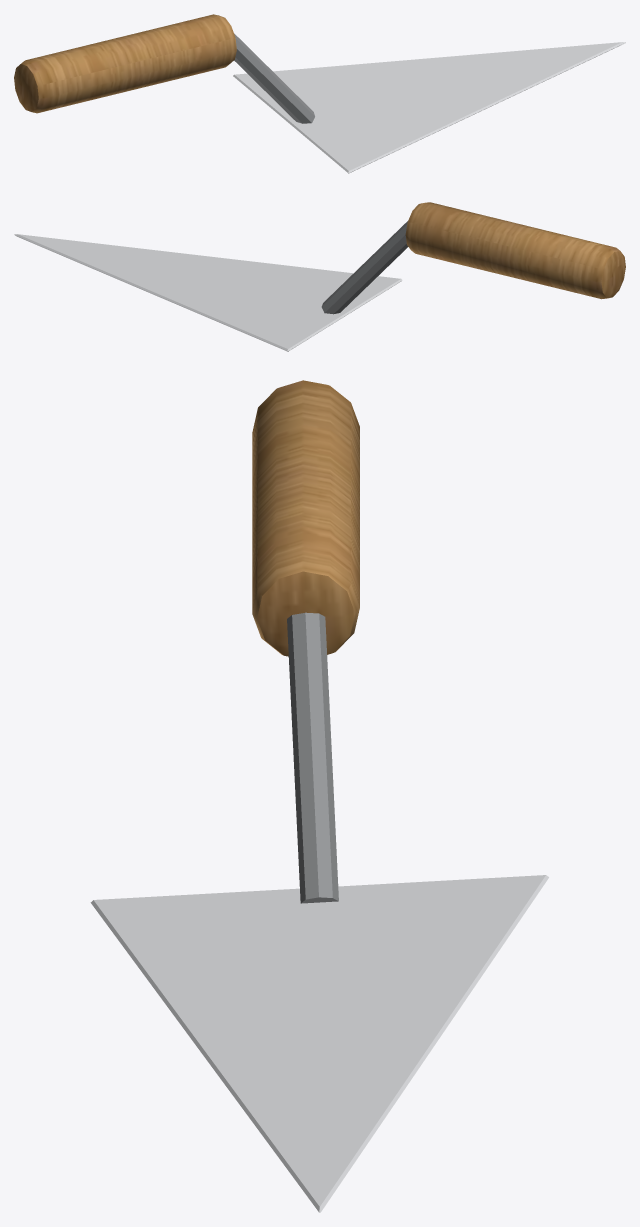
File: EQP-MAO-006_anim.glb
3 renders of one model, top to bottom at view 1: azimuth 30°, elevation 25°; view 2: azimuth 150°, elevation 25°; view 3: azimuth 270°, elevation 25°, orthographic. The views are drawn at different scales.
Parts seen in each view (by area): view 1: EQP-MAO-006_anim0; view 2: EQP-MAO-006_anim0; view 3: EQP-MAO-006_anim0.
Boxes of the visible parts, box(x1,y1,x2,y2) form: EQP-MAO-006_anim0: box(14, 14, 625, 173); EQP-MAO-006_anim0: box(14, 202, 625, 351); EQP-MAO-006_anim0: box(90, 380, 548, 1212).
Size of the model in its own units: 0.3593 by 0.0775 by 0.1193.
3 materials, 1 textured.
